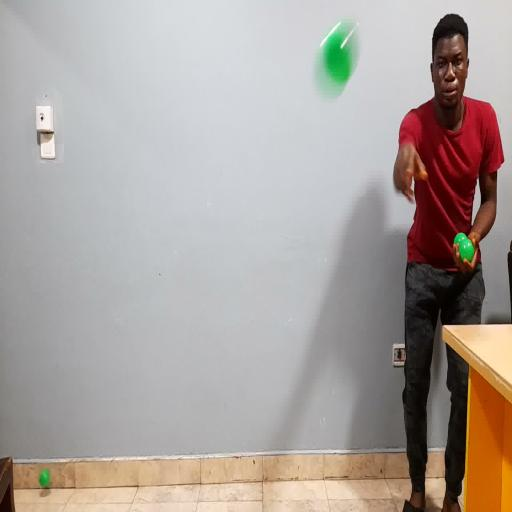plastic-ball: (314, 16, 360, 106)
